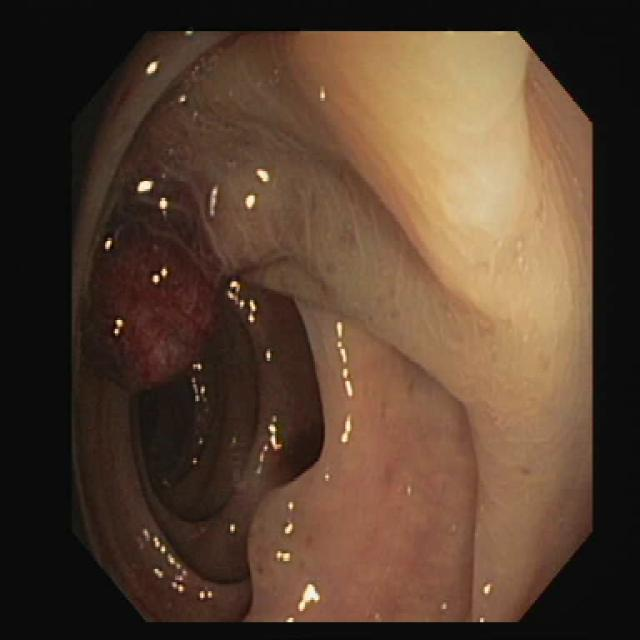tumor: (90, 204, 217, 387), (250, 471, 298, 607)
